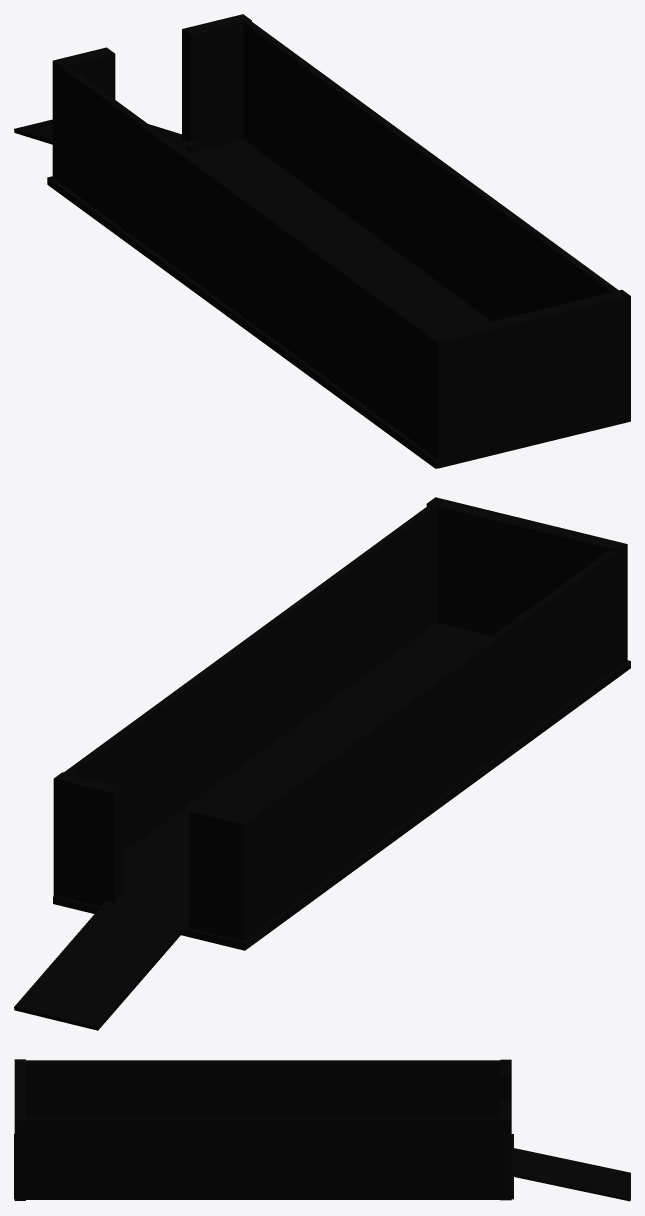
File: hitbox.obj
The picture shows the model from 3 angles, top to bottom: view 1: azimuth 30°, elevation 25°; view 2: azimuth 150°, elevation 25°; view 3: azimuth 270°, elevation 25°; orthographic projection. The views are drawn at different scales.
Parts seen in each view (by area): view 1: Cube.006; view 2: Cube.006; view 3: Cube.006.
Part boxes in pixels (x1,y1,x2,y2): Cube.006: (14, 14, 630, 468); Cube.006: (14, 497, 630, 1030); Cube.006: (14, 1059, 630, 1201).
Size of the model in its own units: 5.14 by 3.83 by 21.73.
1 material, 1 textured.
